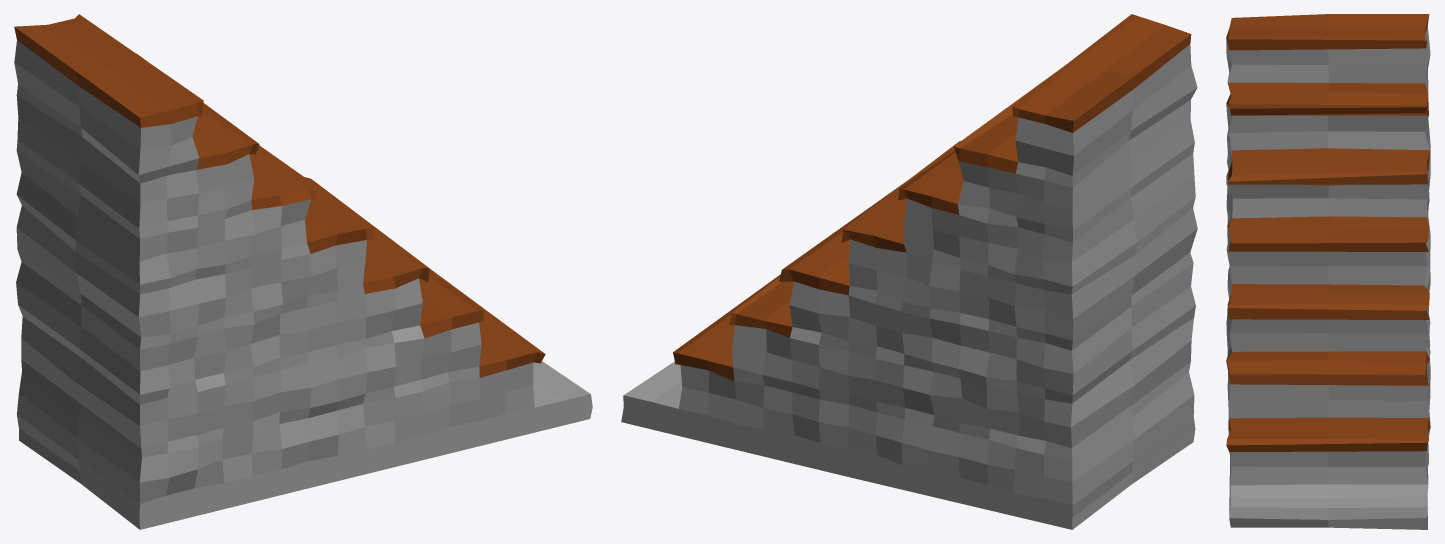
File: Stairs.fbx
The picture shows the model from 3 angles, left to right: view 1: azimuth 30°, elevation 25°; view 2: azimuth 150°, elevation 25°; view 3: azimuth 270°, elevation 25°; orthographic projection. The views are drawn at different scales.
Visible parts, largest first — view 1: Stairs; view 2: Stairs; view 3: Stairs.
Part boxes in pixels (<box>): Stairs: <box>14,14,592,529</box>; Stairs: <box>621,14,1197,529</box>; Stairs: <box>1226,14,1430,529</box>.
Bounding box in the file's own units: 436 × 378 × 208.
